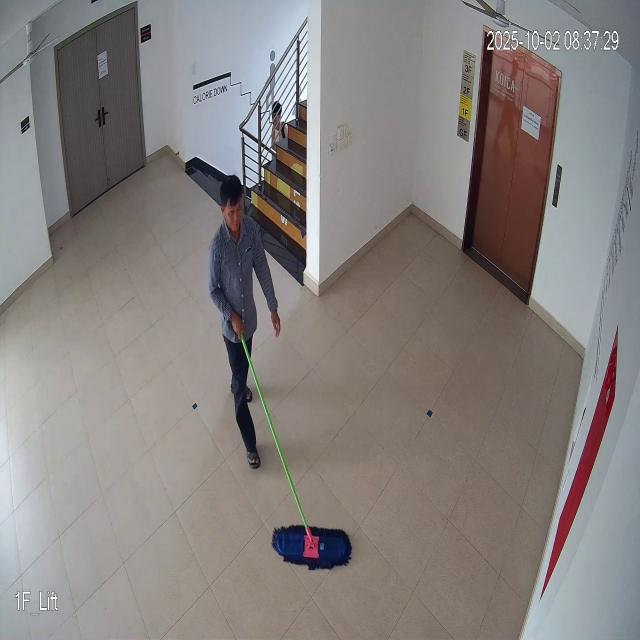face: (216, 172, 245, 236)
